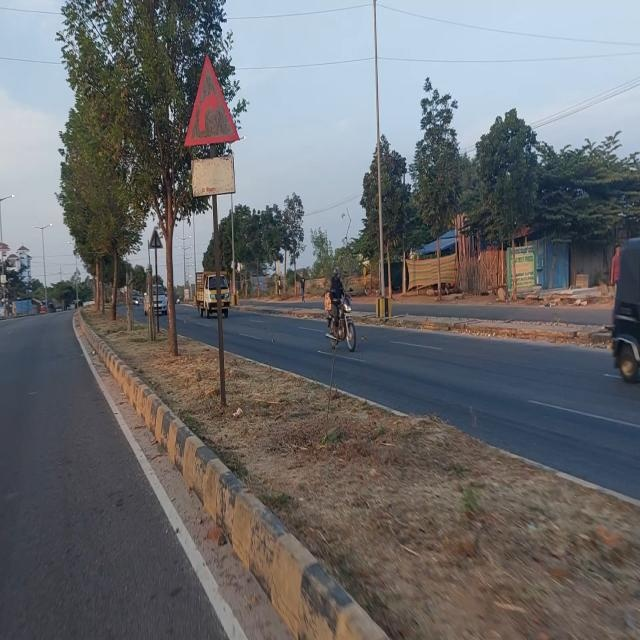bien_nguy_hiem: (182, 51, 240, 150)
